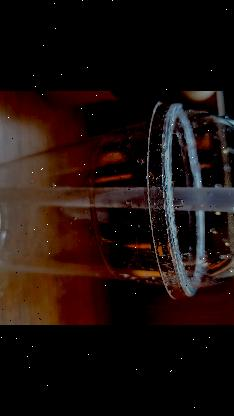Others: (0, 103, 234, 301), (144, 102, 234, 302), (0, 179, 234, 216)
